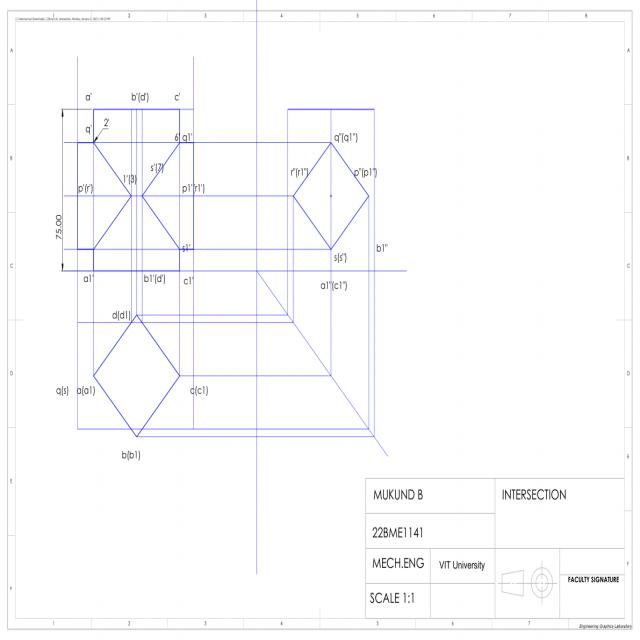Drawings: (43, 78, 396, 464)
